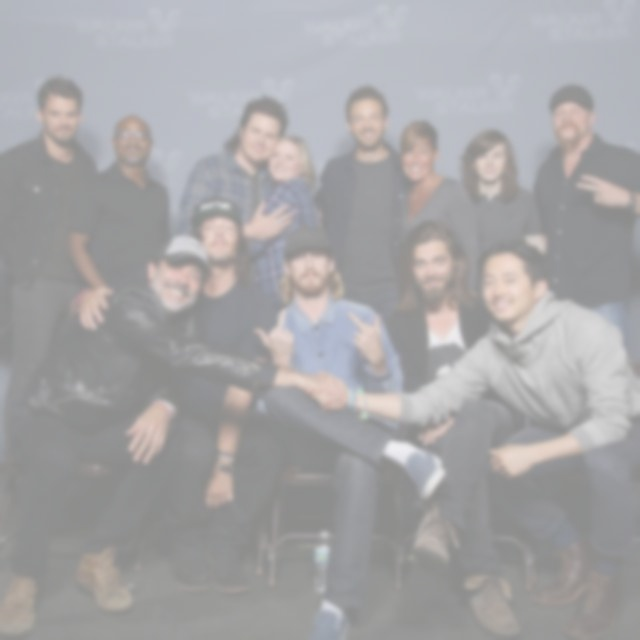pessoa: (0, 232, 353, 639), (302, 236, 640, 640), (56, 194, 294, 598), (248, 222, 451, 640), (382, 220, 522, 637), (0, 74, 102, 514), (530, 82, 640, 360), (311, 82, 415, 326), (176, 93, 324, 243), (64, 113, 173, 290), (388, 119, 482, 293), (238, 132, 324, 318), (456, 126, 546, 284)
